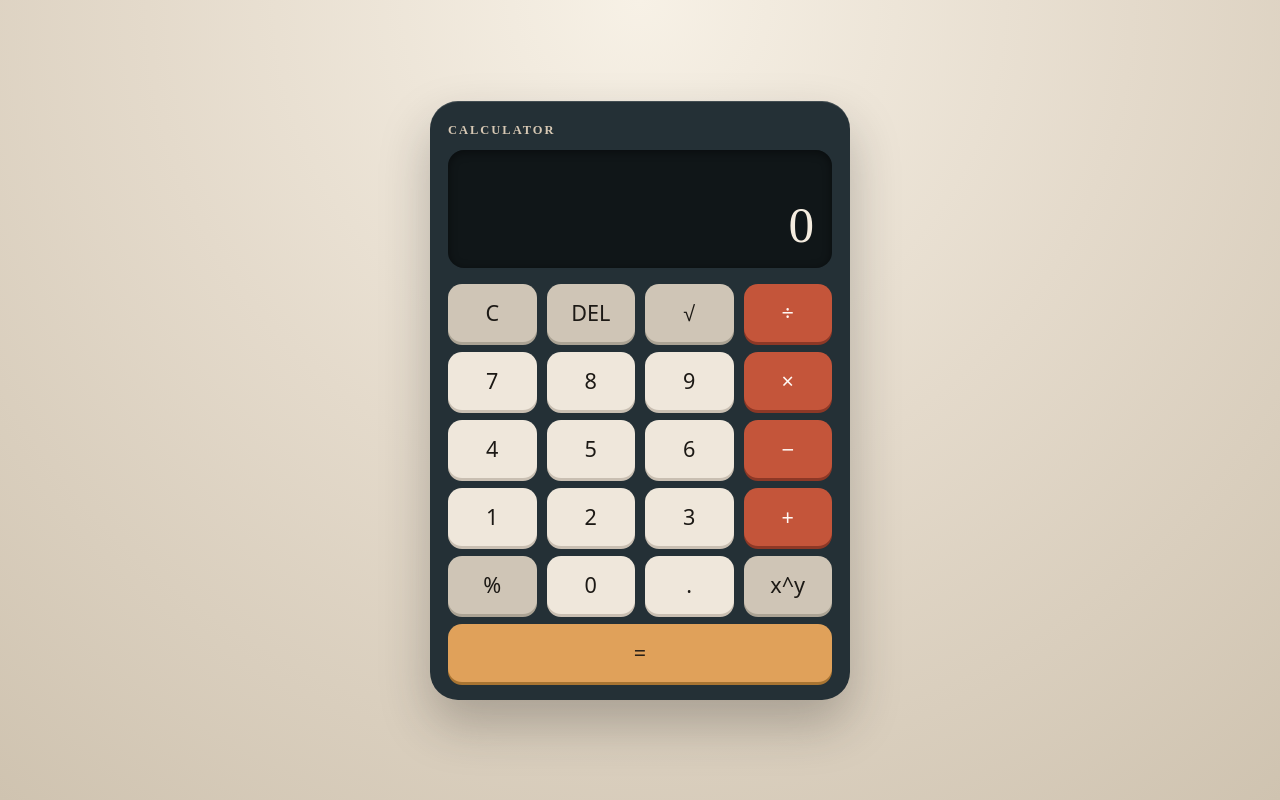
Test: sends square root with only operand a
The width and height of the screenshot is (1280, 800).
Step 1. Click the button "9" → (689, 380), box [645, 352, 734, 410]
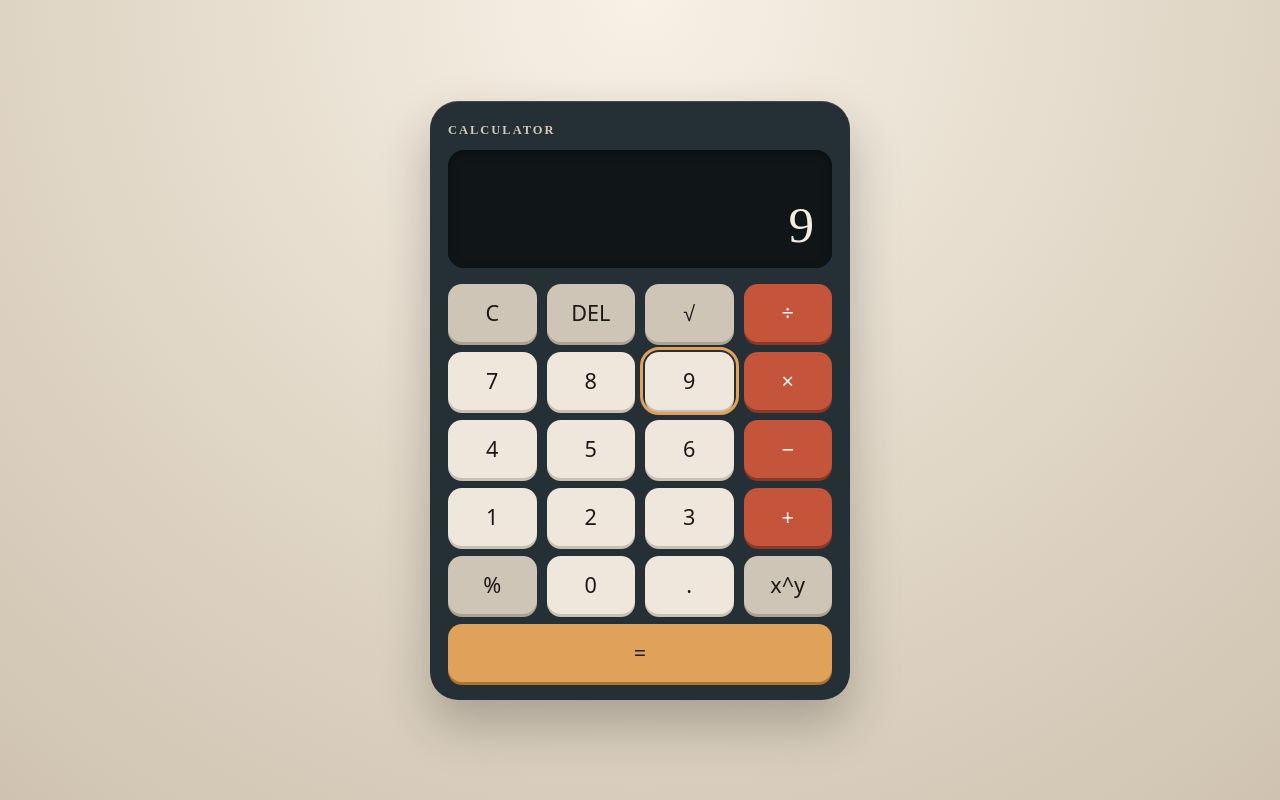
Step 2. Click the button named "Square root" → (689, 312), box [645, 284, 734, 342]
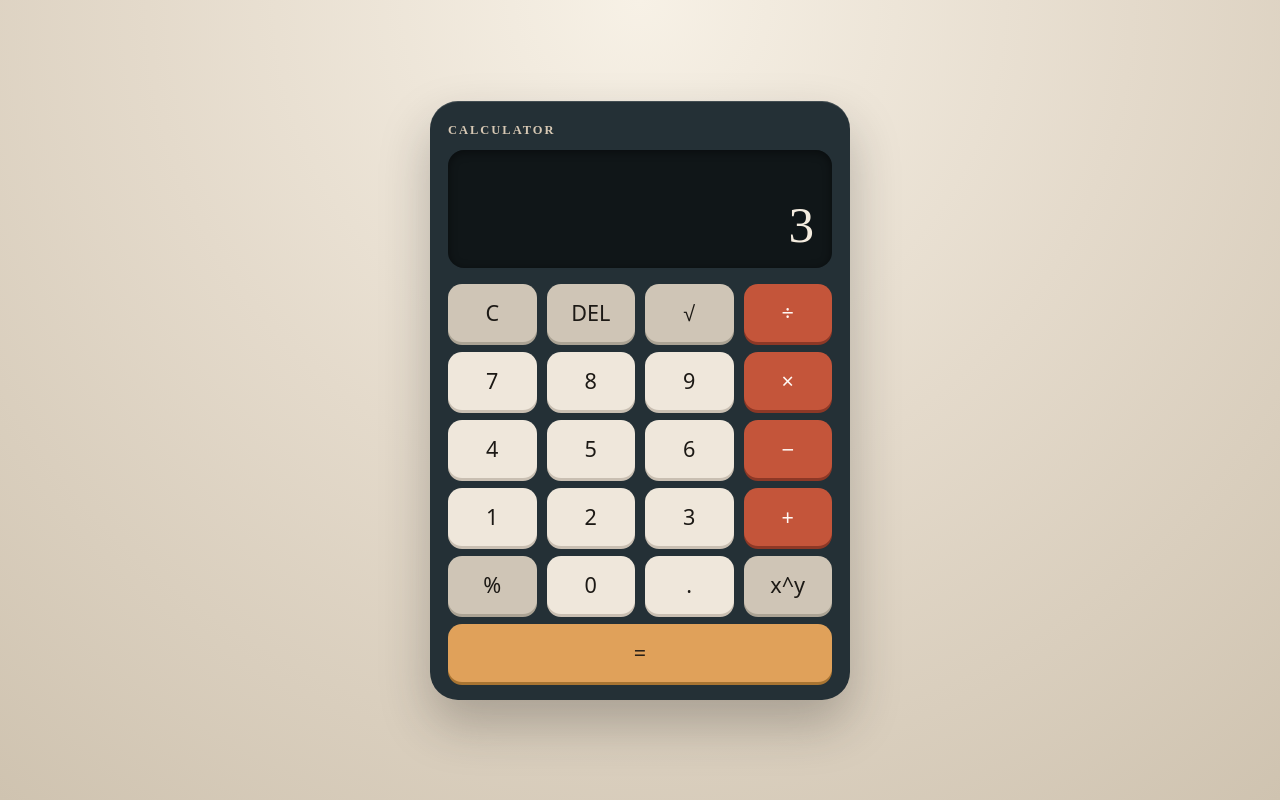
Check: the text named "Result" reads "3", box [788, 196, 814, 253]
